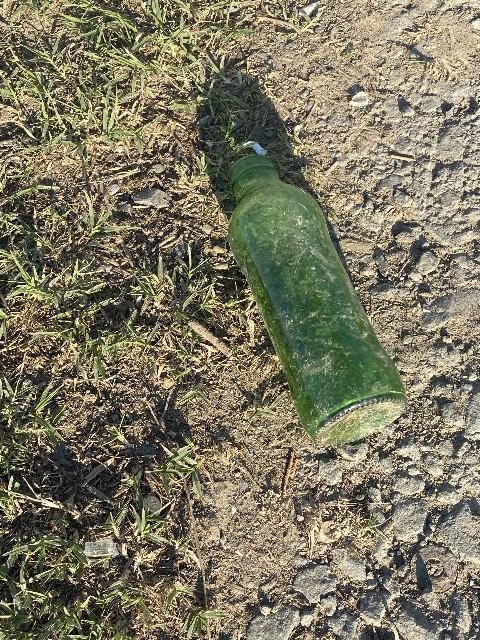Cam: (217, 156, 408, 448), (207, 625, 211, 640)
